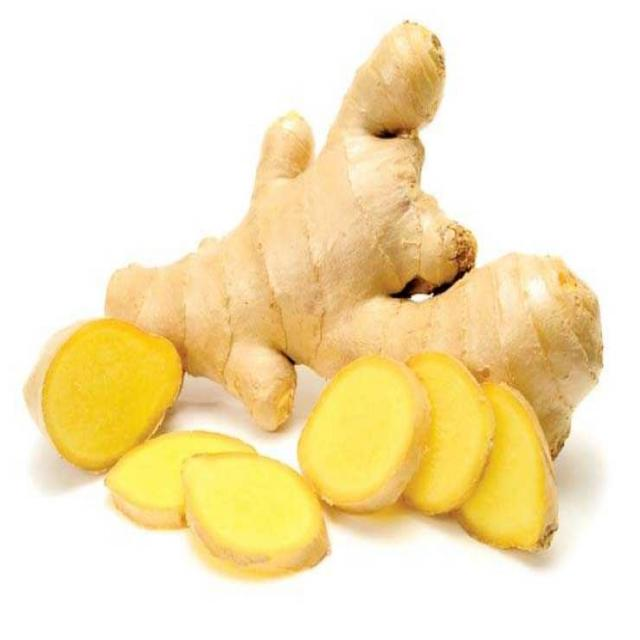ginger: (19, 33, 621, 579)
